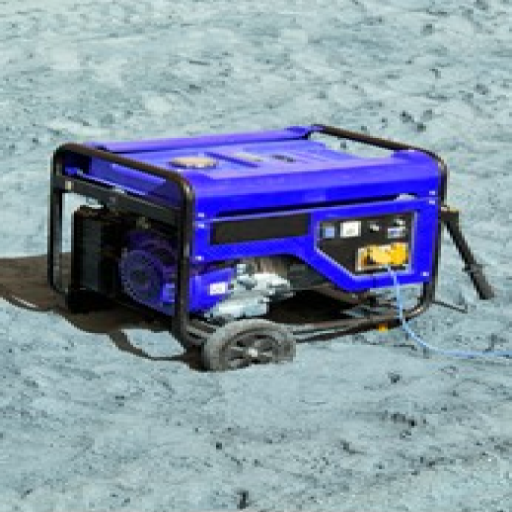portable_generator: (50, 124, 449, 354)
